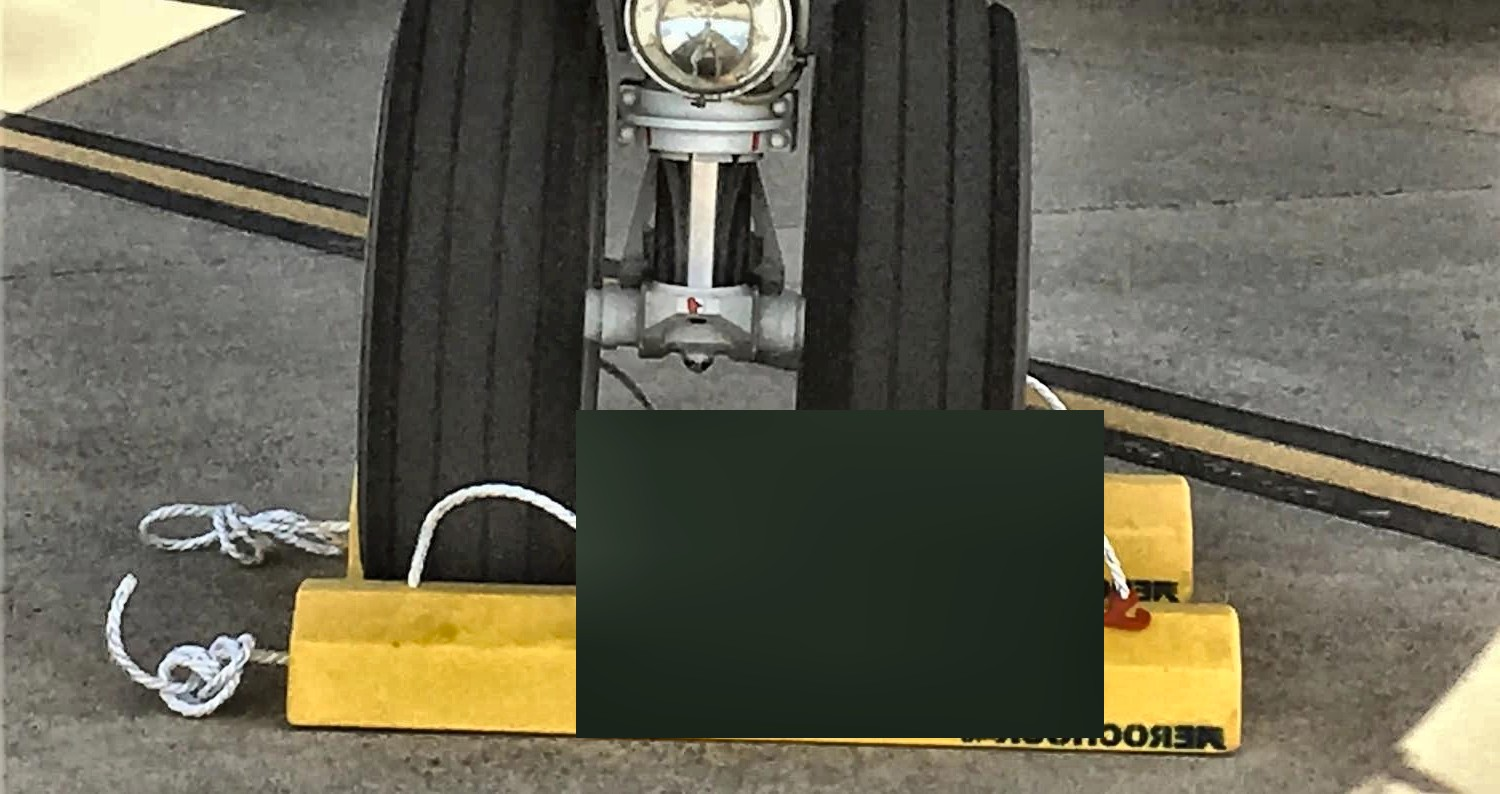chock: (279, 573, 1252, 758), (328, 454, 1200, 603)
wheel: (361, 0, 611, 586), (801, 4, 1035, 602)
